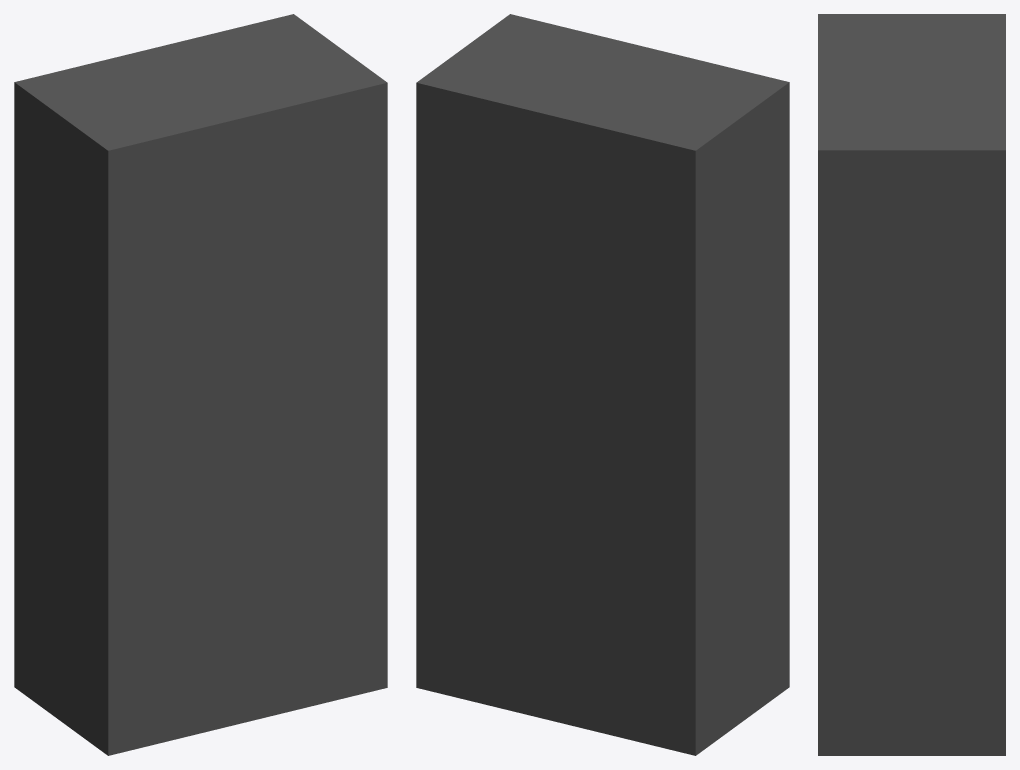
File: Switch_C2_03.fbx
The picture shows the model from 3 angles, left to right: view 1: azimuth 30°, elevation 25°; view 2: azimuth 150°, elevation 25°; view 3: azimuth 270°, elevation 25°; orthographic projection.
Visible parts, largest first — view 1: Switch_C2_03; view 2: Switch_C2_03; view 3: Switch_C2_03.
Part boxes in pixels (x1,y1,x2,y2): Switch_C2_03: (14, 14, 387, 755); Switch_C2_03: (416, 14, 789, 755); Switch_C2_03: (818, 14, 1005, 755).
Bounding box in the file's own units: 2.85 × 5.9 × 1.66.
